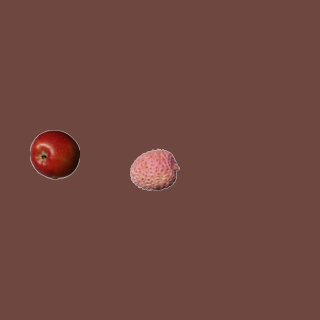Apple Braeburn: (29, 129, 79, 179)
Lychee: (129, 144, 179, 194)
